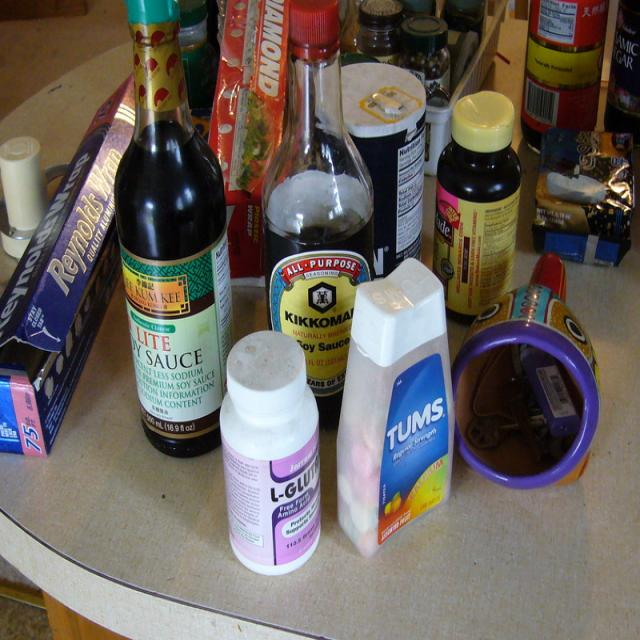container- bottle - jar: (115, 0, 232, 456), (263, 0, 373, 426), (337, 259, 454, 556), (221, 331, 320, 574), (433, 91, 521, 315), (521, 0, 607, 150), (604, 0, 639, 145), (398, 16, 450, 97), (180, 0, 218, 108), (356, 0, 403, 63), (441, 0, 486, 40)
